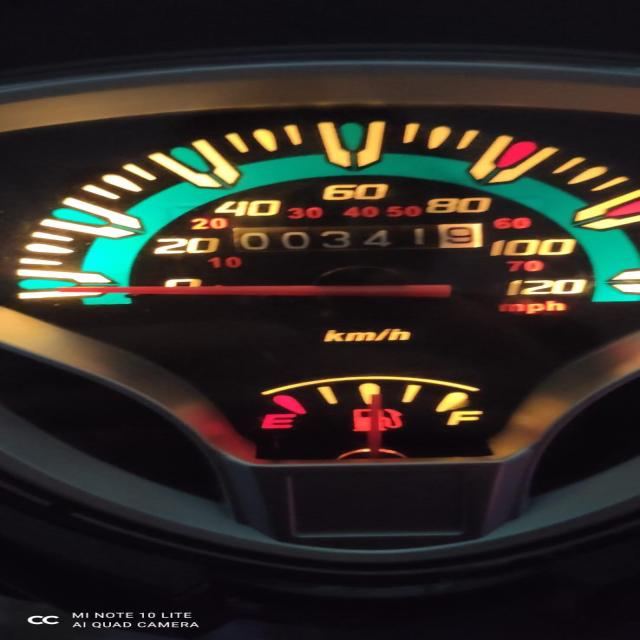odometer: (232, 222, 484, 252)
